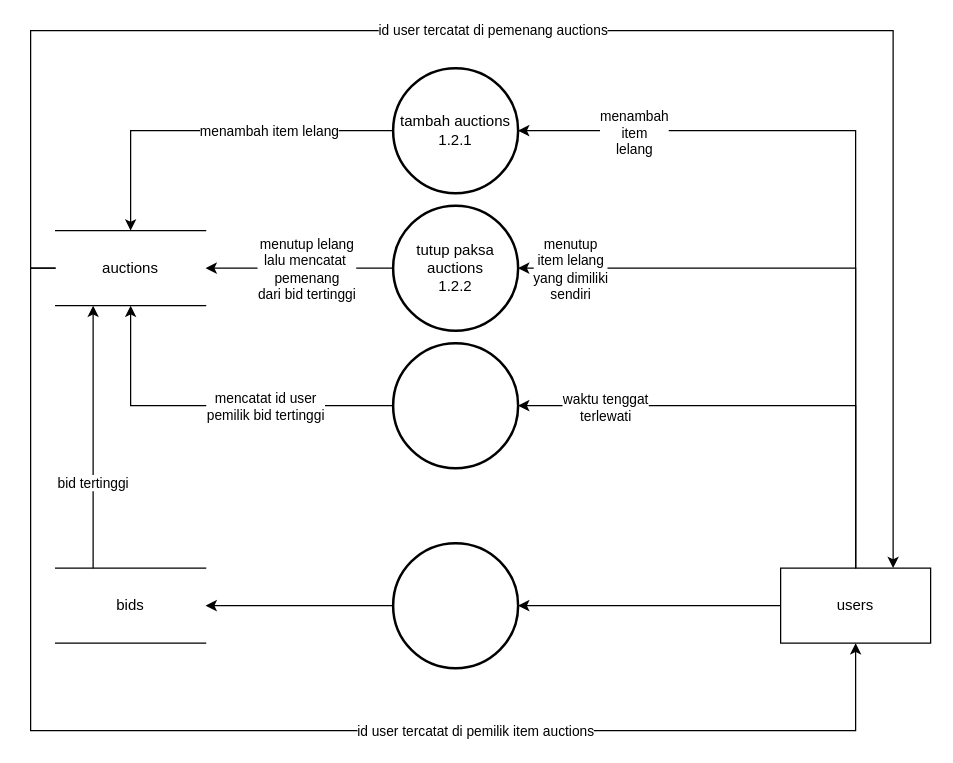
Image size: 953x763. Some labels were removed from this diagram. The shapes that lost their labels are listed below. From the top down, each one's centre as x and y in pixels, then its label:
point 455,405: tutup auctions setelah waktu tenggat 1.2.3
point 455,605: menambah bid 1.3.1
